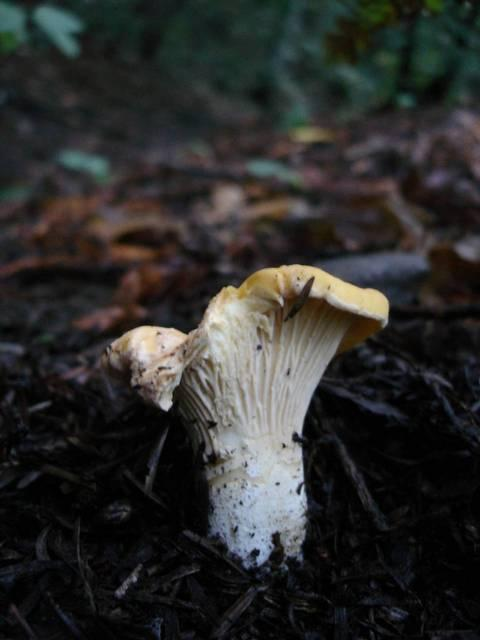edible_mushroom: (101, 261, 390, 577)
